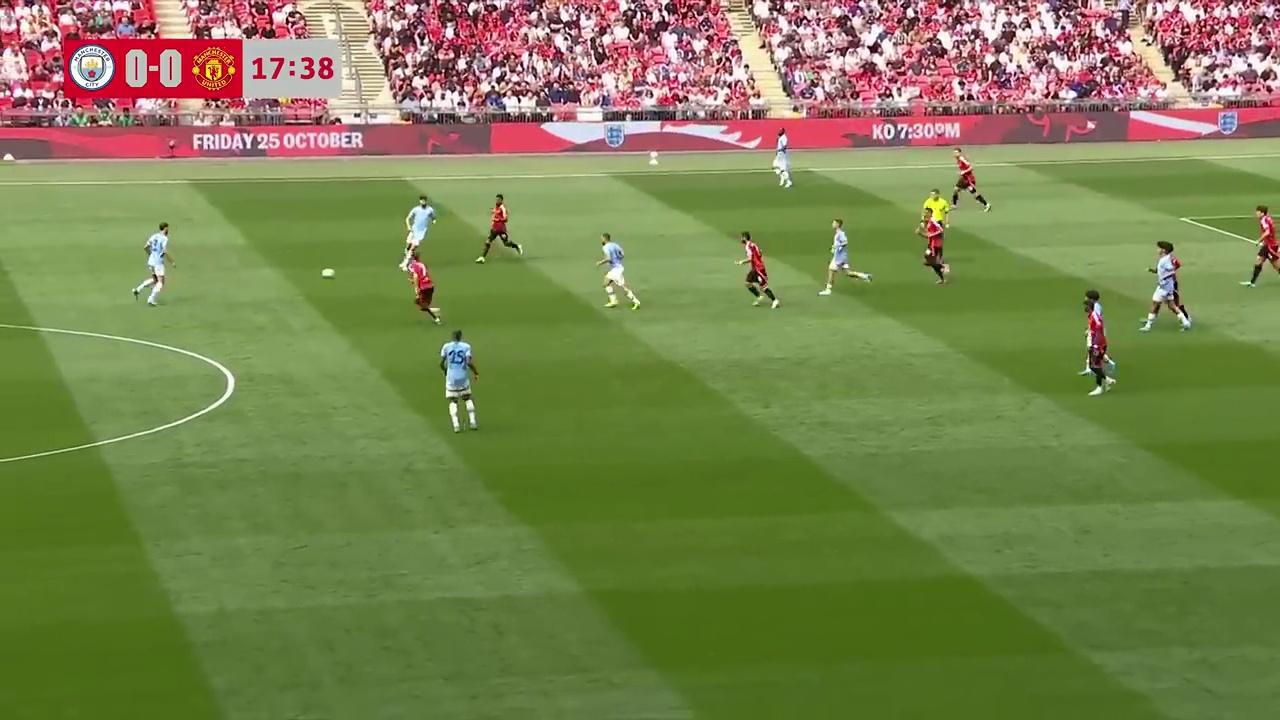ball: (319, 265, 336, 278)
player: (438, 328, 479, 433), (1138, 252, 1191, 332), (132, 221, 175, 305), (594, 233, 640, 311), (1147, 240, 1189, 321), (475, 193, 522, 263), (819, 218, 861, 295), (400, 248, 441, 325), (737, 233, 779, 308), (1244, 206, 1280, 287), (1082, 317, 1116, 393), (951, 150, 990, 212), (1083, 290, 1113, 369), (917, 213, 949, 285), (406, 194, 436, 256), (1083, 290, 1108, 357), (773, 135, 793, 188)
referee: (919, 188, 950, 234)
